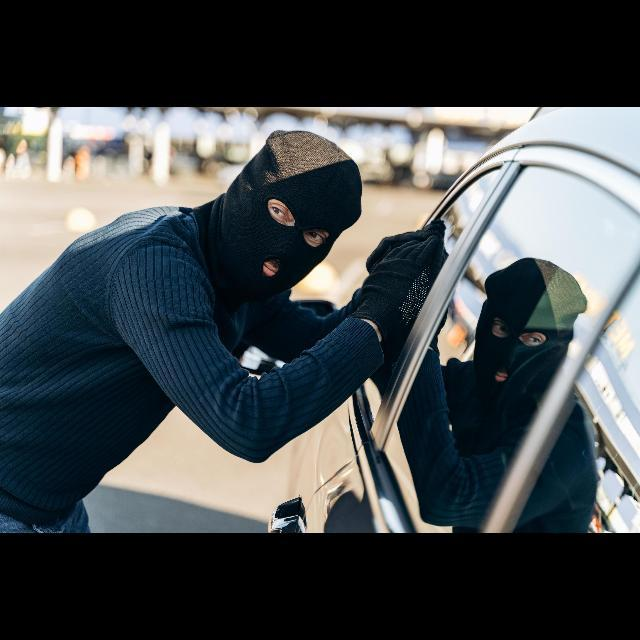criminal: (0, 129, 447, 534)
